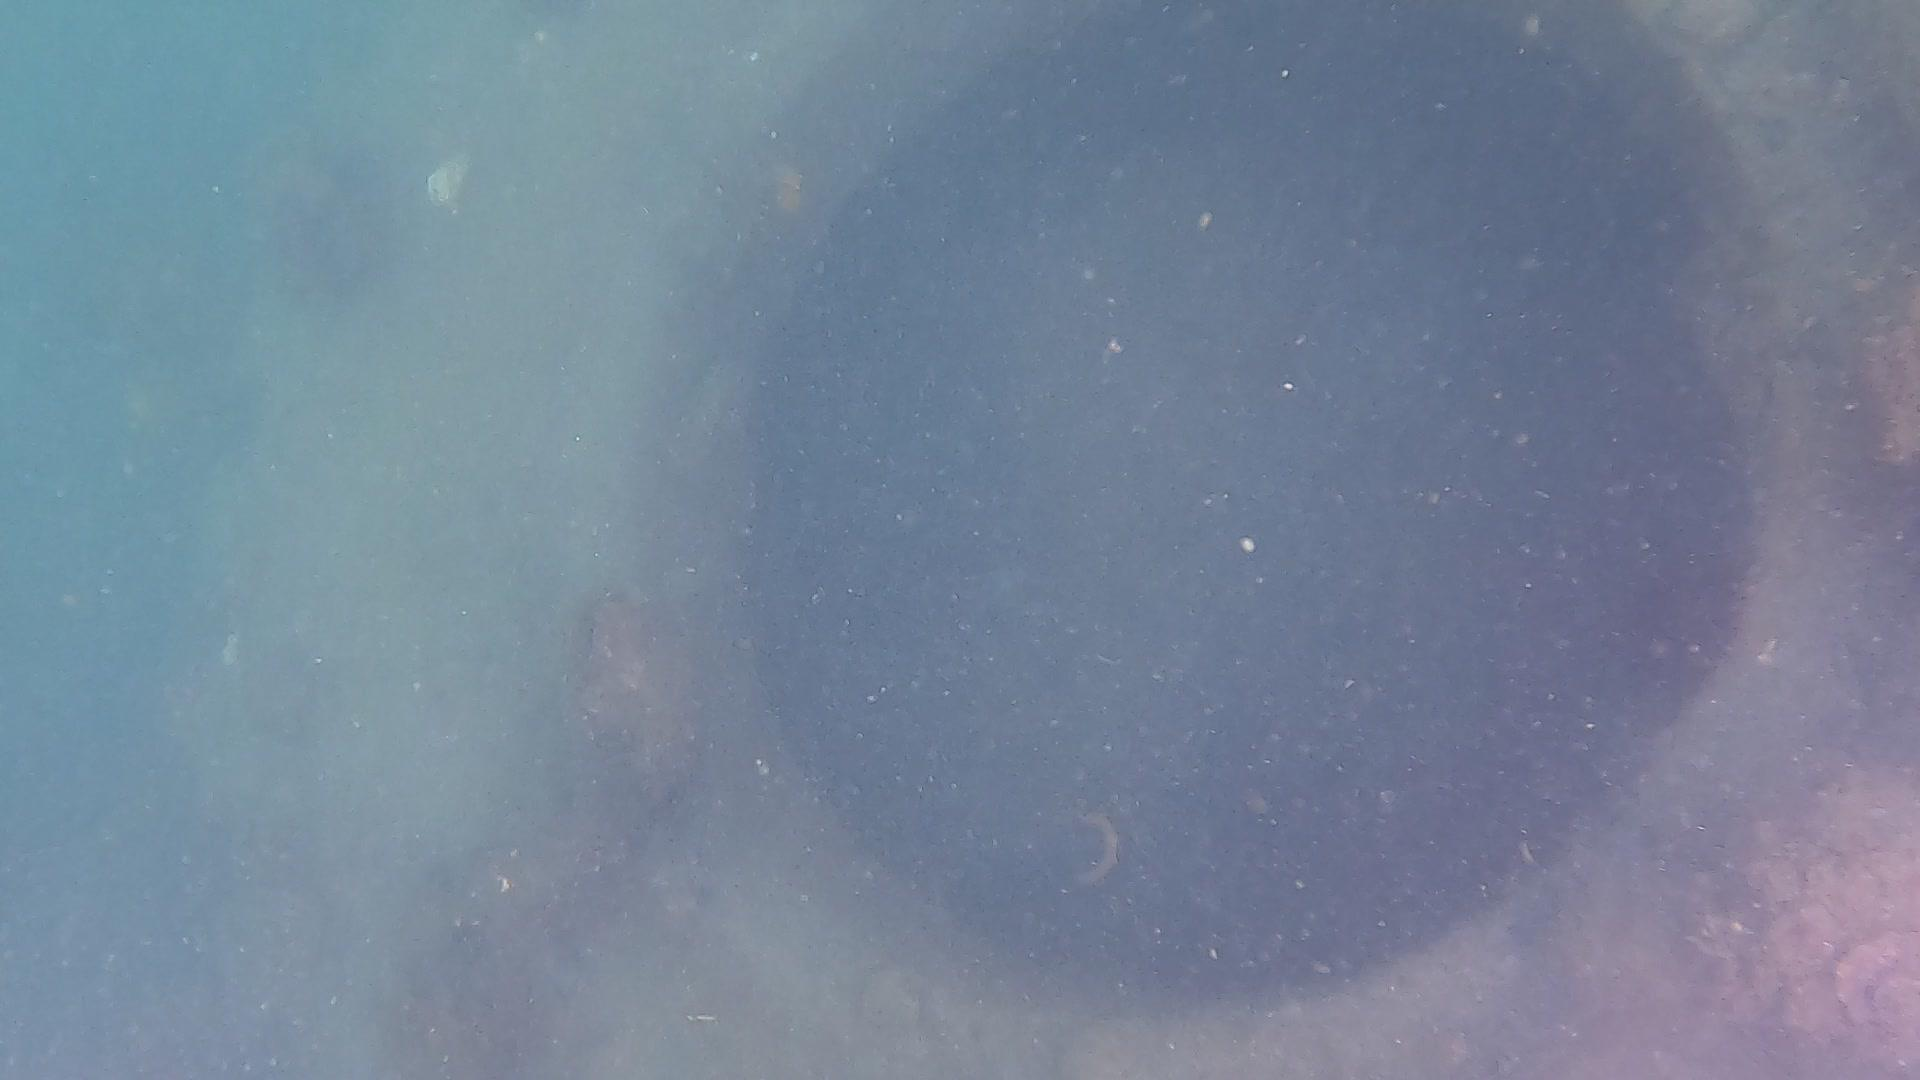tire: (194, 0, 1920, 1080)
